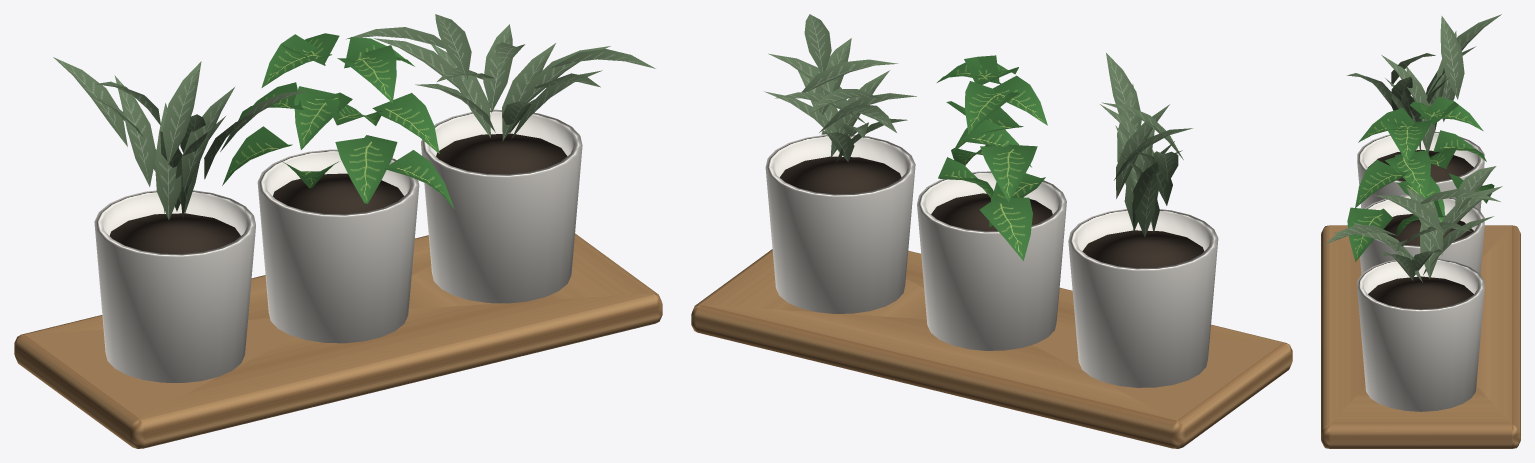
The model's file is obj_plant_kitchen_herb_trio.glb.
The picture shows the model from 3 angles, left to right: view 1: azimuth 30°, elevation 25°; view 2: azimuth 150°, elevation 25°; view 3: azimuth 270°, elevation 25°; orthographic projection. The views are drawn at different scales.
Parts seen in each view (by area): view 1: obj_plant_kitchen_herb_trio; view 2: obj_plant_kitchen_herb_trio; view 3: obj_plant_kitchen_herb_trio.
Boxes of the visible parts, left/top/right/bottom form: obj_plant_kitchen_herb_trio: left=14, top=14, right=662, bottom=448; obj_plant_kitchen_herb_trio: left=691, top=14, right=1292, bottom=448; obj_plant_kitchen_herb_trio: left=1321, top=14, right=1520, bottom=448.
Bounding box in the file's own units: 0.44 × 0.2427 × 0.18.
Materials: 5 (3 with a texture image).
